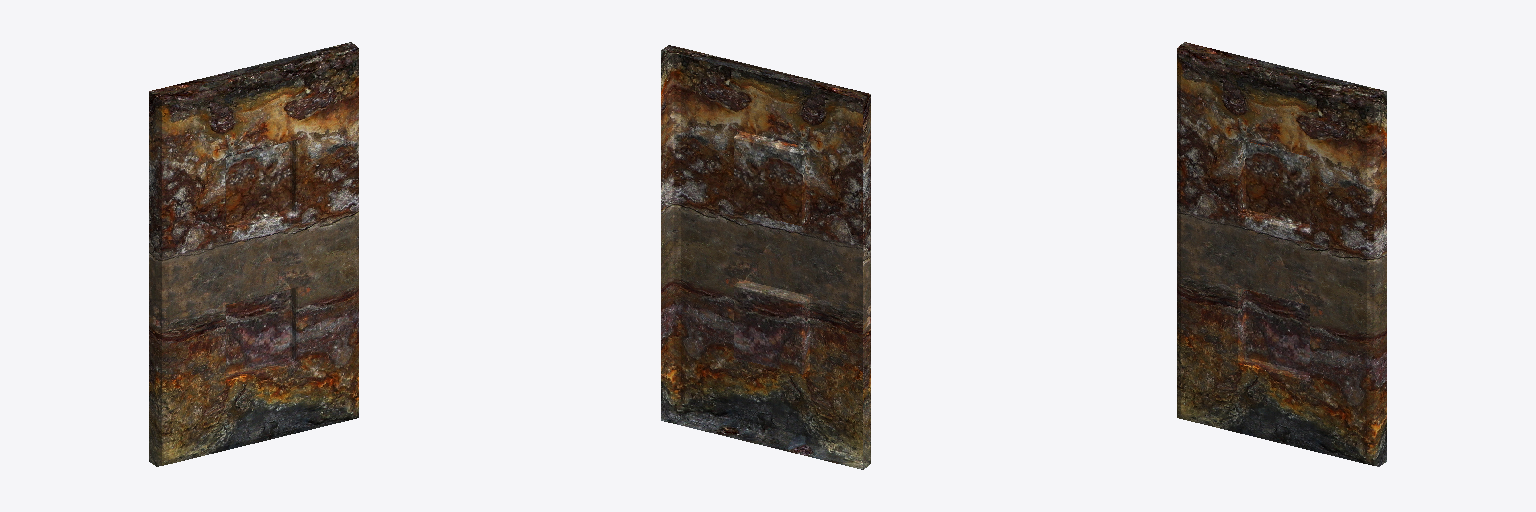
3 views of the same model, side by side, from view 1: azimuth 30°, elevation 25°; view 2: azimuth 150°, elevation 25°; view 3: azimuth 330°, elevation 25° (orthographic).
Visible parts, largest first — view 1: ButtonPanel; view 2: ButtonPanel; view 3: ButtonPanel.
Part boxes in pixels (bbox=[...]): ButtonPanel: bbox=[149, 42, 358, 466]; ButtonPanel: bbox=[661, 45, 870, 469]; ButtonPanel: bbox=[1177, 42, 1386, 466].
Bounding box in the file's own units: 0.2 × 0.35 × 0.02.
1 materials, 1 textured.